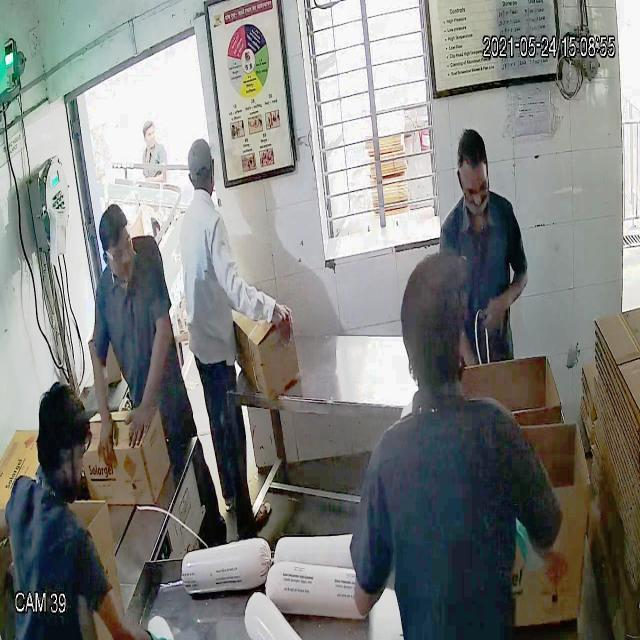glasses: (101, 236, 135, 265)
